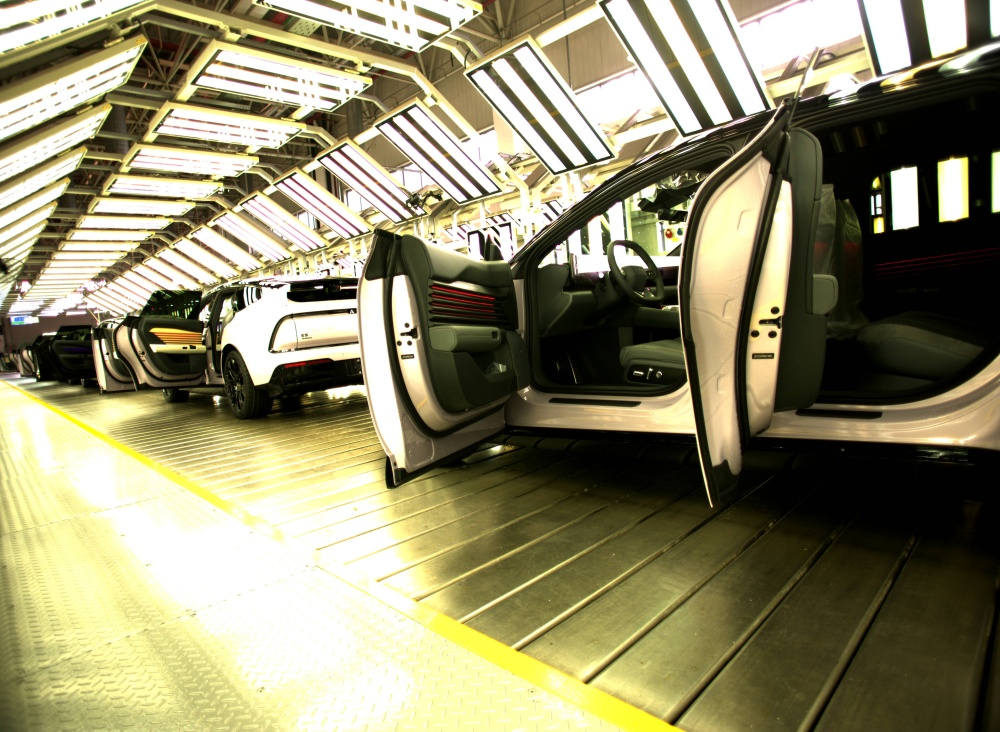armrest_color: (427, 324, 504, 352)
panel_color: (426, 273, 502, 327)
